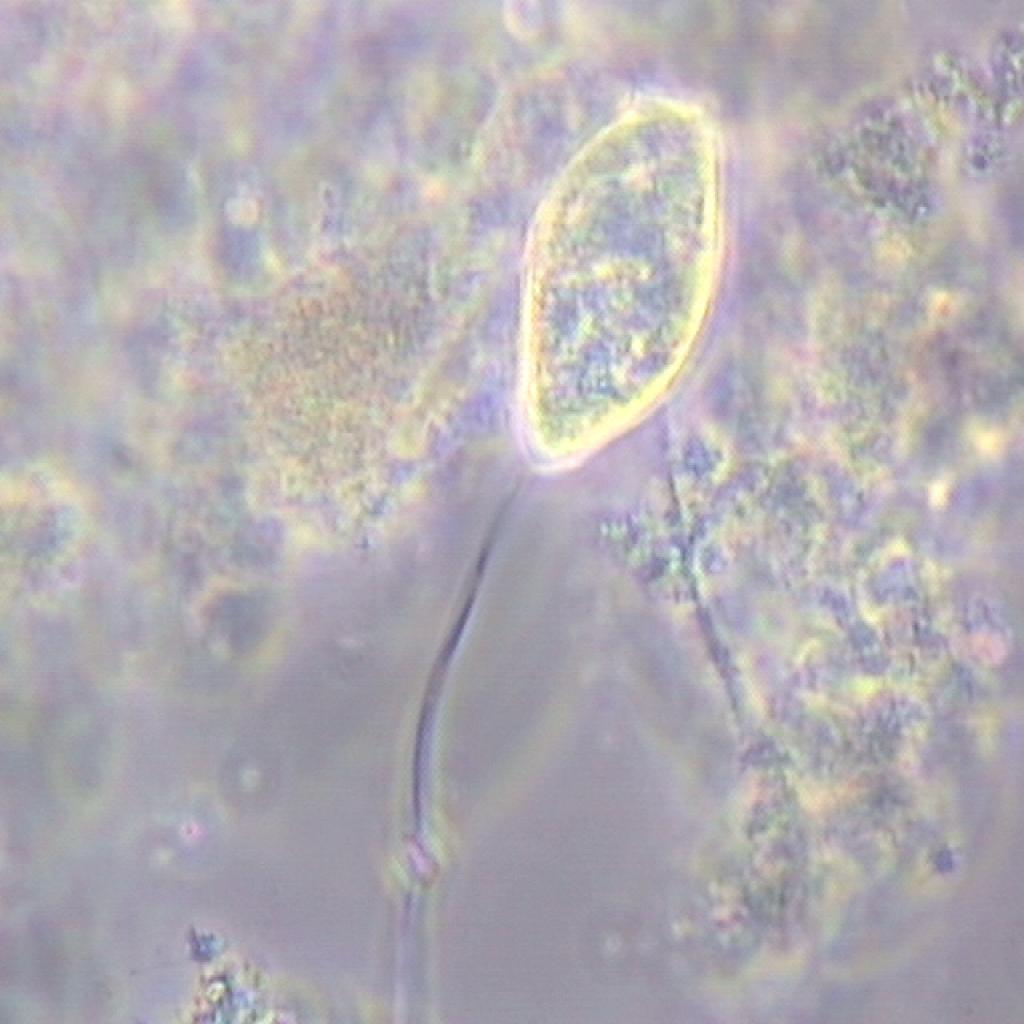Vorticella: (350, 66, 726, 913)
